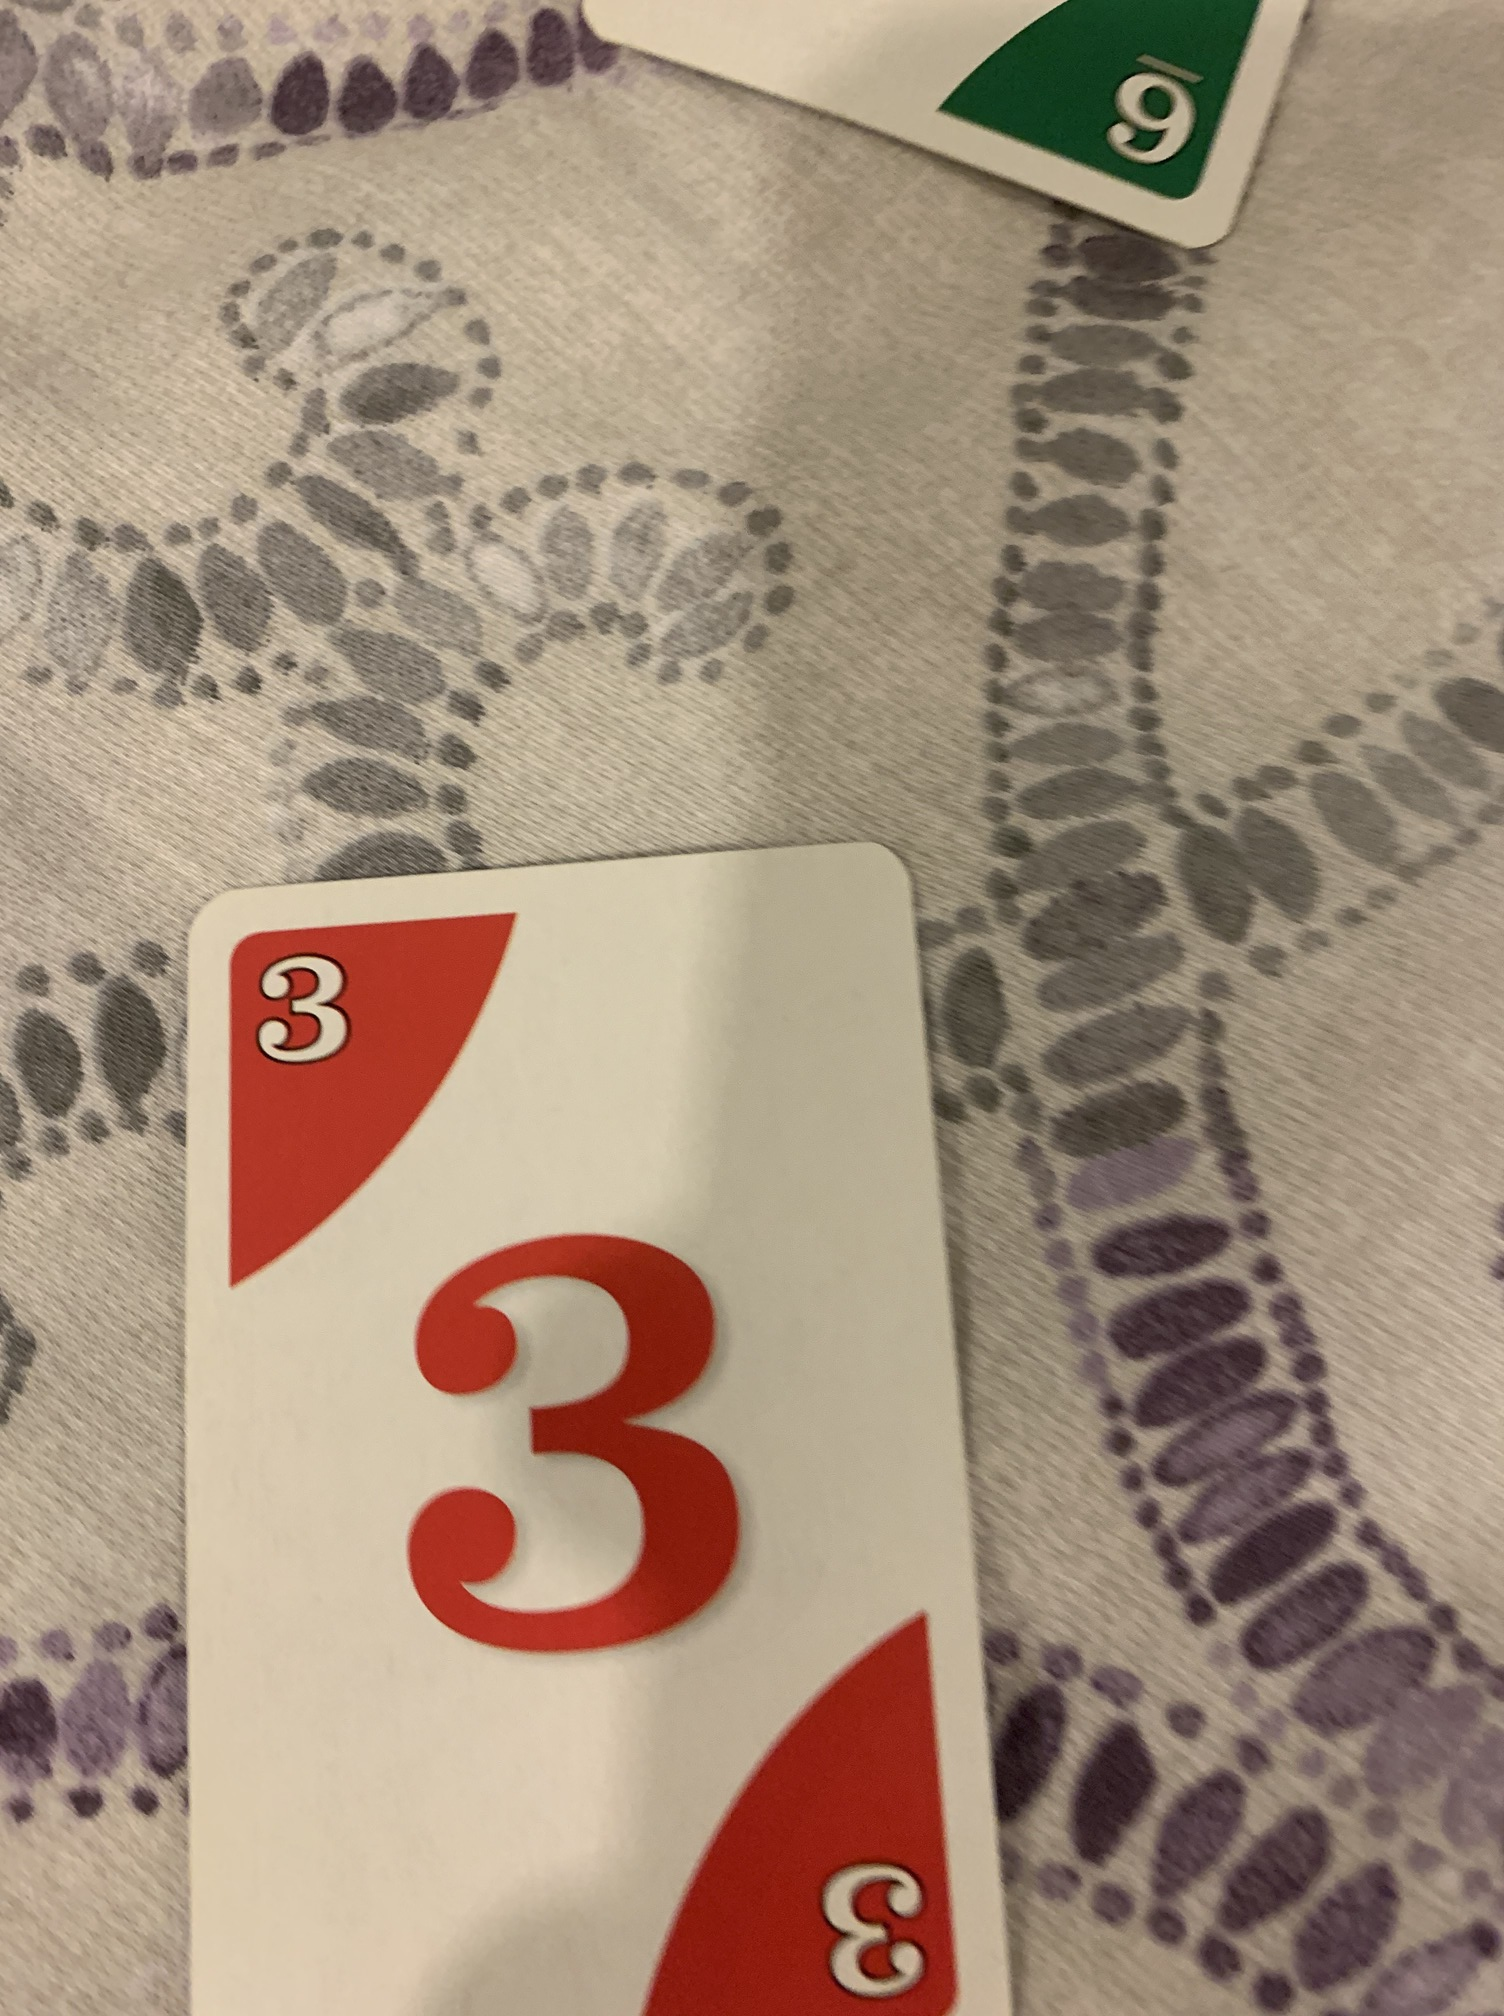three: (164, 844, 1063, 2016)
